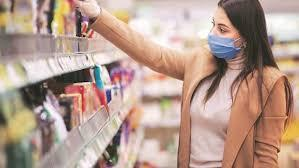Normal: (0, 0, 297, 156)
